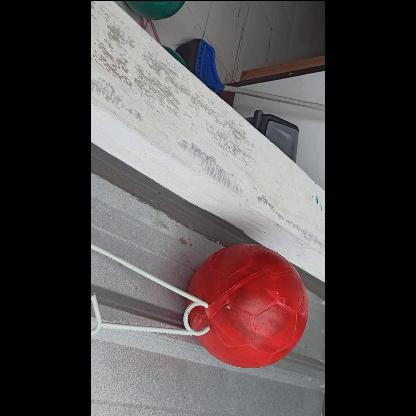red_ball: (186, 246, 310, 368)
